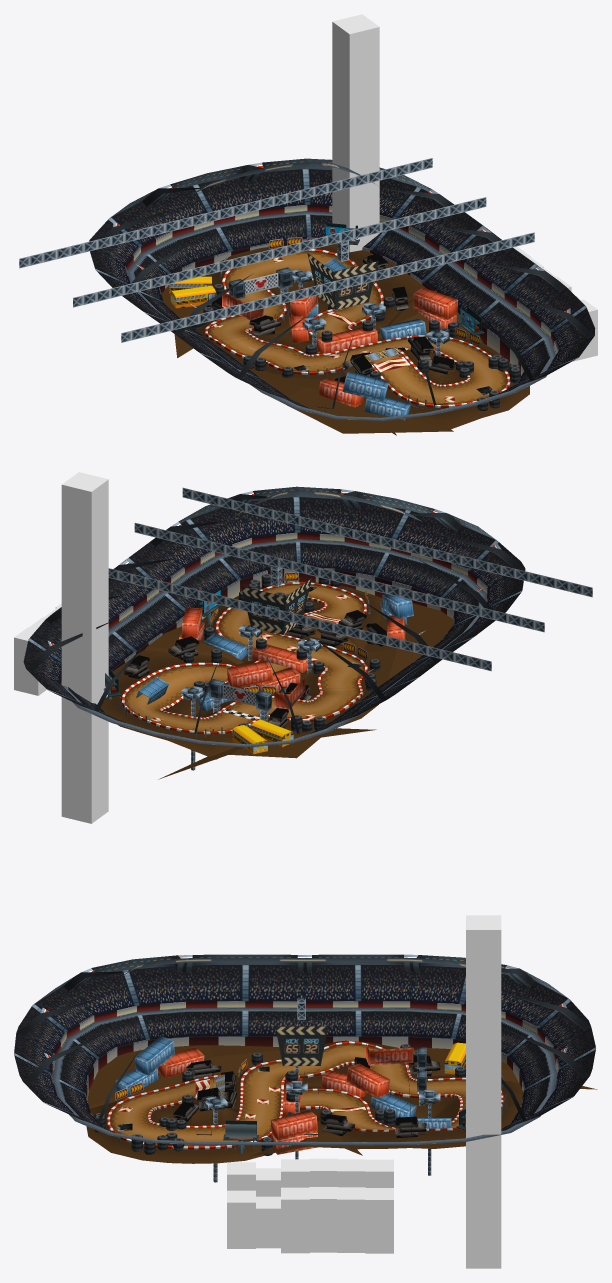
File: Kick Butt Track 1.glb
3 views of the same model, one above another, from view 1: azimuth 30°, elevation 25°; view 2: azimuth 150°, elevation 25°; view 3: azimuth 270°, elevation 25° (orthographic).
Visible parts, largest first — view 1: stadium_piece, trim4 (×3), dirt_road, Cube, dirt_road2, Plane_001, Red Crate (×3), Blue Crate (×3), scorebox, Finish Banner, school bus, Plane_002 (+1 smaller); view 2: stadium_piece, Cube (×2), dirt_road, trim4 (×3), dirt_road2, Red Crate (×5), Plane_001, scorebox, Plane_002, school bus (×2), Finish Banner, Blue Crate (×2) (+2 smaller); view 3: stadium_piece, Cube (×13), dirt_road, dirt_road2, Red Crate (×5), Plane_001, Blue Crate (×3), scorebox, Billboard Kick, Plane_002, Plane, junk heap.
Boxes of the visible parts, <box> form: stadium_piece: <box>89,158,595,421</box>; trim4 (×3): <box>19,158,534,342</box>; dirt_road: <box>195,243,529,428</box>; Cube: <box>332,14,379,252</box>; dirt_road2: <box>319,335,529,435</box>; Plane_001: <box>249,368,453,433</box>; Red Crate (×3): <box>316,287,457,407</box>; Blue Crate (×3): <box>342,318,426,420</box>; scorebox: <box>307,240,378,309</box>; Finish Banner: <box>228,267,292,299</box>; school bus: <box>170,285,216,308</box>; Plane_002: <box>161,284,206,357</box>; stadium_piece: <box>23,486,525,747</box>; Cube (×2): <box>14,472,108,823</box>; dirt_road: <box>100,582,381,759</box>; trim4 (×3): <box>108,487,592,671</box>; dirt_road2: <box>202,582,382,667</box>; Red Crate (×5): <box>181,607,307,709</box>; Plane_001: <box>363,600,453,687</box>; scorebox: <box>241,565,311,634</box>; Plane_002: <box>159,728,376,779</box>; school bus (×2): <box>232,719,293,756</box>; Finish Banner: <box>208,679,271,721</box>; Blue Crate (×2): <box>204,594,413,659</box>; stadium_piece: <box>14,954,595,1145</box>; Cube (×13): <box>227,915,501,1268</box>; dirt_road: <box>89,1040,523,1163</box>; dirt_road2: <box>86,1074,286,1163</box>; Red Crate (×5): <box>157,1044,413,1140</box>; Plane_001: <box>87,1045,281,1108</box>; Blue Crate (×3): <box>115,1036,416,1119</box>; scorebox: <box>275,998,327,1065</box>; Billboard Kick: <box>223,1120,258,1153</box>; Plane_002: <box>413,1048,597,1089</box>; Plane: <box>248,1127,362,1156</box>; junk heap: <box>395,1116,426,1137</box>.
Size of the model in its own units: 914 by 594 by 929.
Materials: 31 (30 with a texture image).
